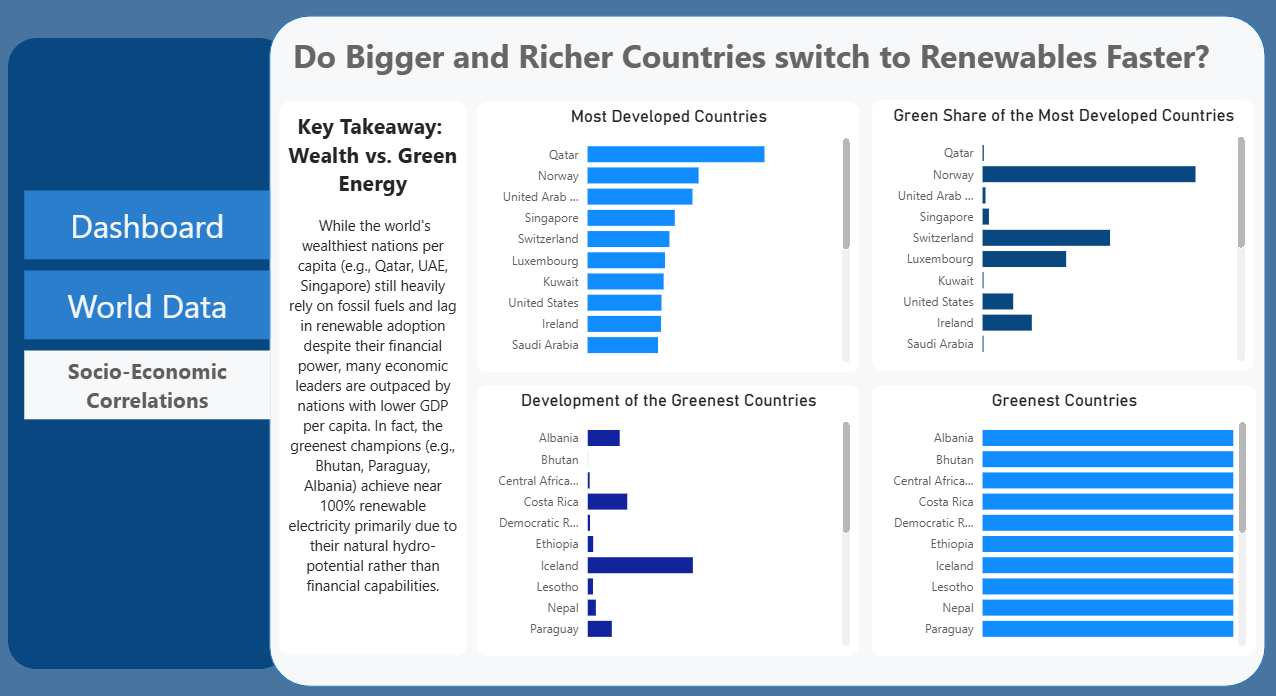

This screenshot's page, from the dashboard's own definition file:
{"tool":"powerbi","page":{"name":"Socio-Economic Correlations","canvas":[1280,720],"ordinal":3},"visuals":[{"type":"group","id":"g1","title":"Sidebar","box":[0,0,1280,703.8],"z":0},{"type":"shape","box":[0,0,1280,703.8],"z":0,"group":"g1"},{"type":"shape","box":[10,40,280,631.2],"z":1000,"group":"g1"},{"type":"barChart","title":"Most Developed Countries","fields":{"Y":["_Measures.GDP per Capita"],"Category":["country_dim.country"]},"box":[478.8,103.8,382.5,270],"z":1000},{"type":"shape","box":[271.2,17.5,996.2,671.2],"z":2000,"group":"g1"},{"type":"barChart","title":"Greenest Countries","fields":{"Category":["country_dim.country"],"Y":["Median(energy_fact.renewables_share_elec)"]},"box":[873.8,387.5,383.8,270],"z":2000},{"type":"textbox","box":[290,31.2,956.2,60],"z":3000,"group":"g1"},{"type":"barChart","title":"Development of the Greenest Countries","fields":{"Category":["country_dim.country"],"Y":["Median(energy_fact.renewables_share_elec)","_Measures.GDP per Capita"]},"box":[478.8,387.5,382.5,270],"z":3000},{"type":"barChart","title":"Green Share of the Most  Developed Countries","fields":{"Y":["Sum(energy_fact.renewables_share_elec)"],"Category":["country_dim.country"]},"box":[873.8,102.5,382.5,270],"z":4000},{"type":"actionButton","box":[26.2,192.7,246.2,68.5],"z":4000,"group":"g1"},{"type":"actionButton","box":[26.2,272.5,246.2,68.8],"z":4500,"group":"g1"},{"type":"textbox","box":[281.2,103.8,187.5,553.8],"z":5000},{"type":"actionButton","box":[26.2,352.5,246.2,68.8],"z":5000,"group":"g1"}]}

Visuals, with their boxes on the page's 1280x720 design canvas (x1, y1, x2, y2). These are canvas units, not pixel positions in the 1276x696 screenshot, which may show the page scaled, cropped or inside an application window:
"Sidebar" group: bbox=(0, 0, 1280, 704)
shape: bbox=(0, 0, 1280, 704)
shape: bbox=(10, 40, 290, 671)
"Most Developed Countries" barChart: bbox=(479, 104, 861, 374)
shape: bbox=(271, 18, 1267, 689)
"Greenest Countries" barChart: bbox=(874, 388, 1258, 658)
textbox: bbox=(290, 31, 1246, 91)
"Development of the Greenest Countries" barChart: bbox=(479, 388, 861, 658)
"Green Share of the Most  Developed Countries" barChart: bbox=(874, 102, 1256, 372)
actionButton: bbox=(26, 193, 272, 261)
actionButton: bbox=(26, 272, 272, 341)
textbox: bbox=(281, 104, 469, 658)
actionButton: bbox=(26, 352, 272, 421)
